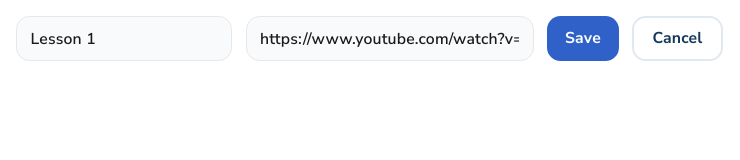
Test case: EditLessonForm › shows fallback error for non-error rejection
Click the button "Save": (583, 38) [547, 16, 619, 61]
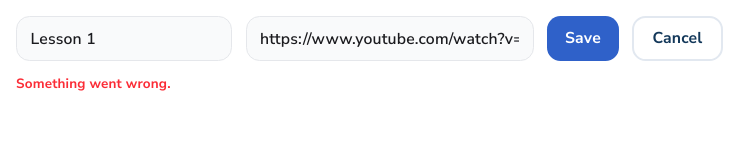
Expected: the text "Something went wrong." is shown, [16, 74, 171, 92]
